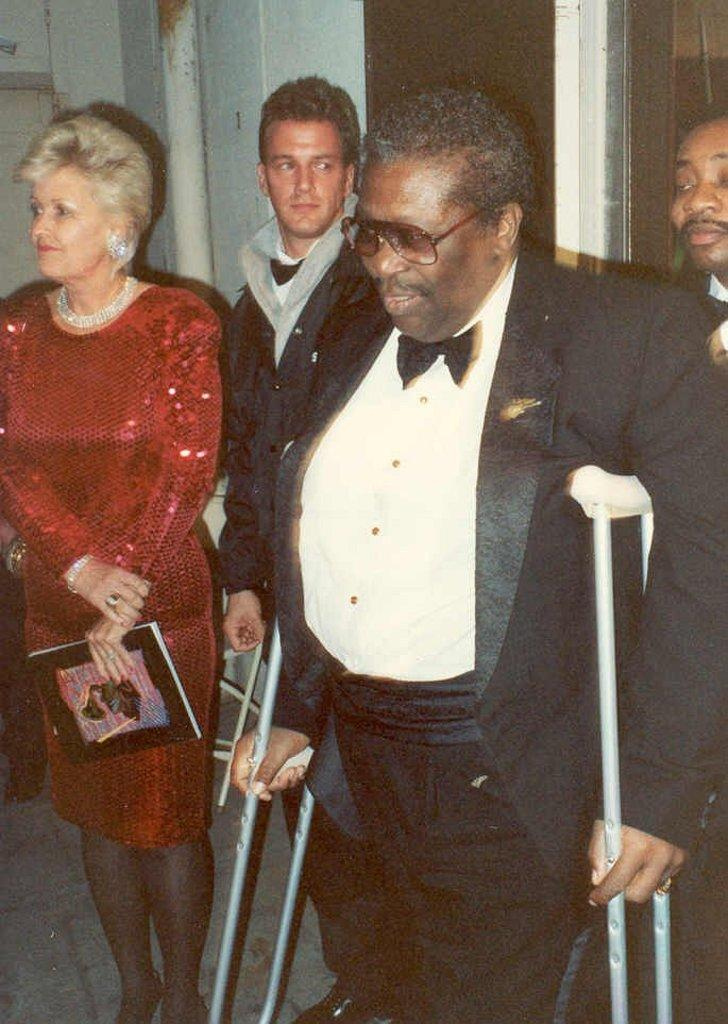crutches: (194, 72, 728, 1024)
